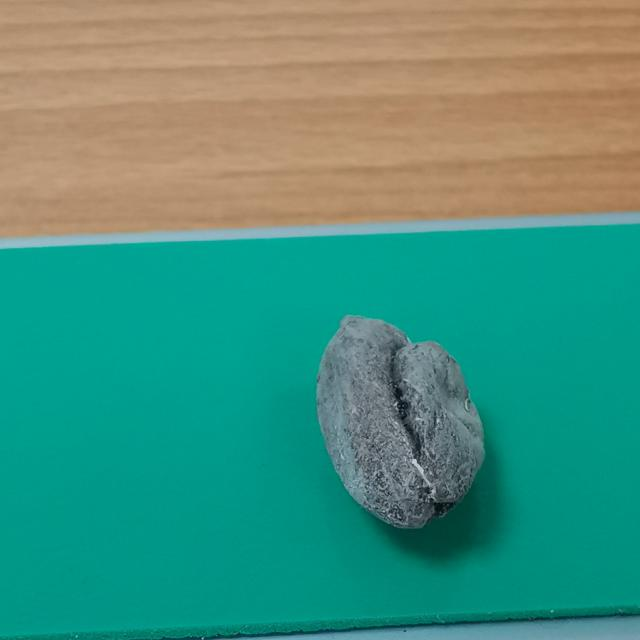Agglomerated_cocoabeans: (238, 284, 575, 590)
